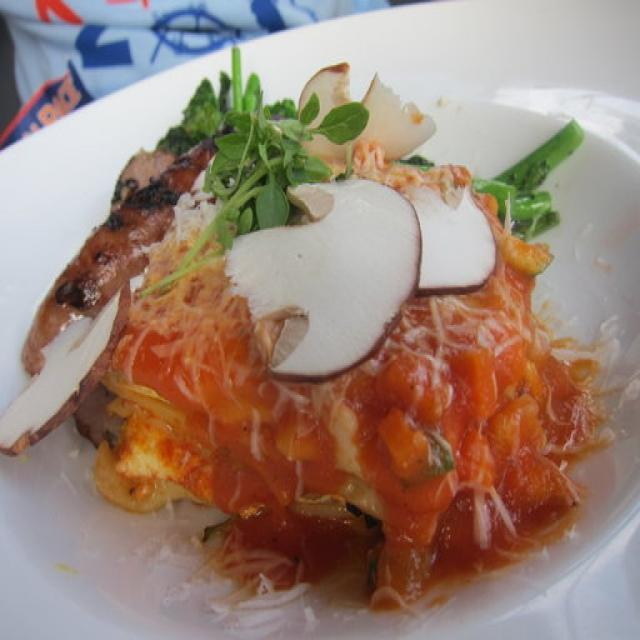Lasagna: (137, 288, 568, 564)
